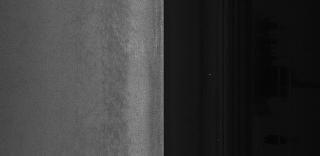silk spot: (95, 18, 134, 124)
